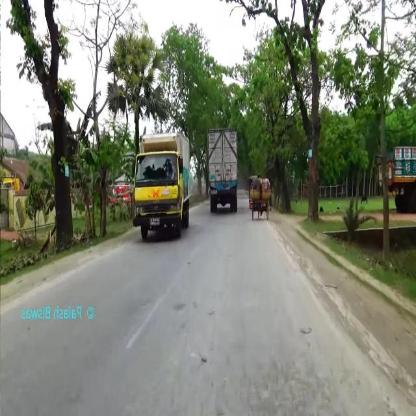truck: (133, 134, 189, 234), (207, 124, 239, 212), (376, 144, 414, 210)
